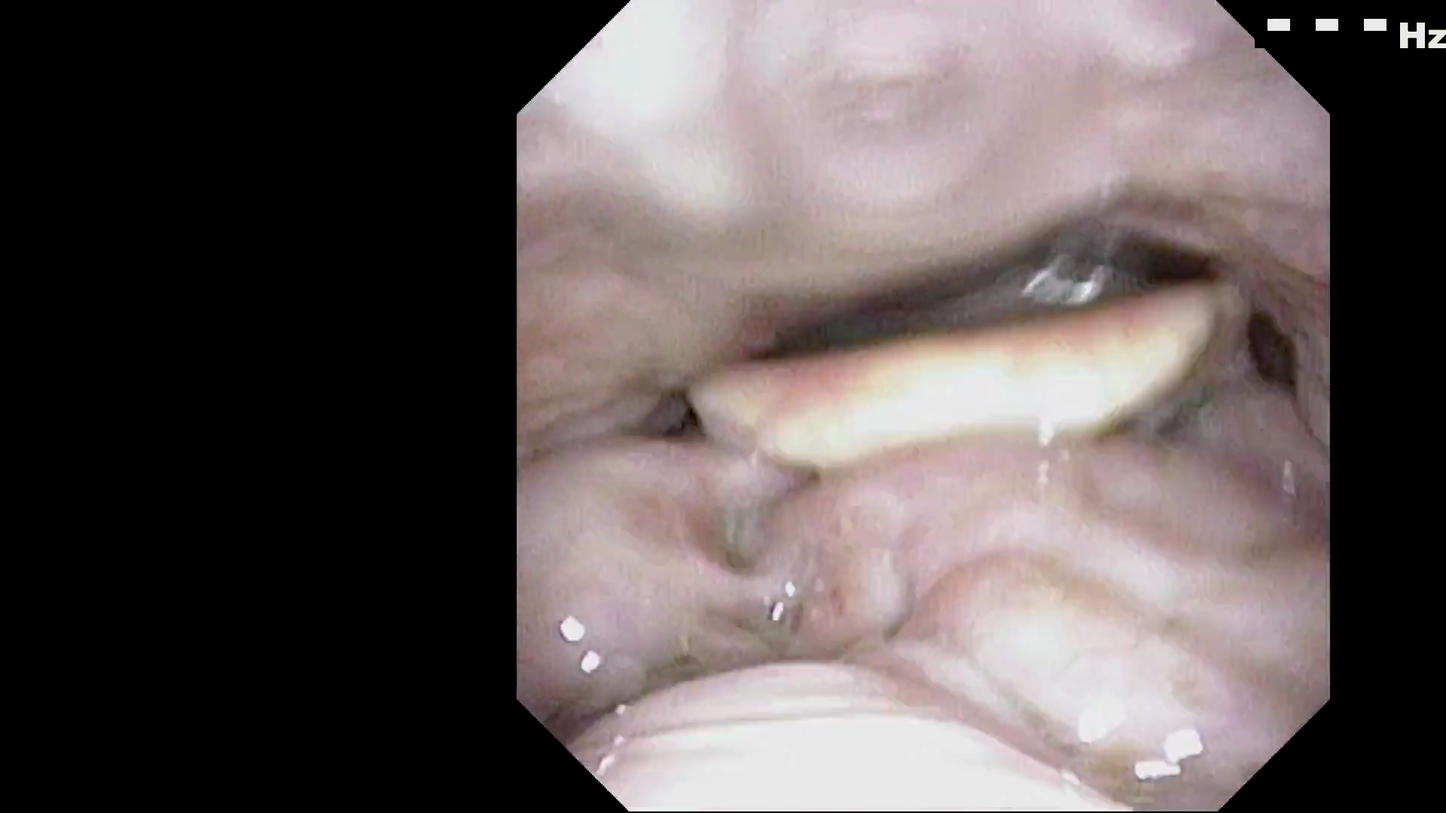epiglottis: (697, 360, 1284, 539)
